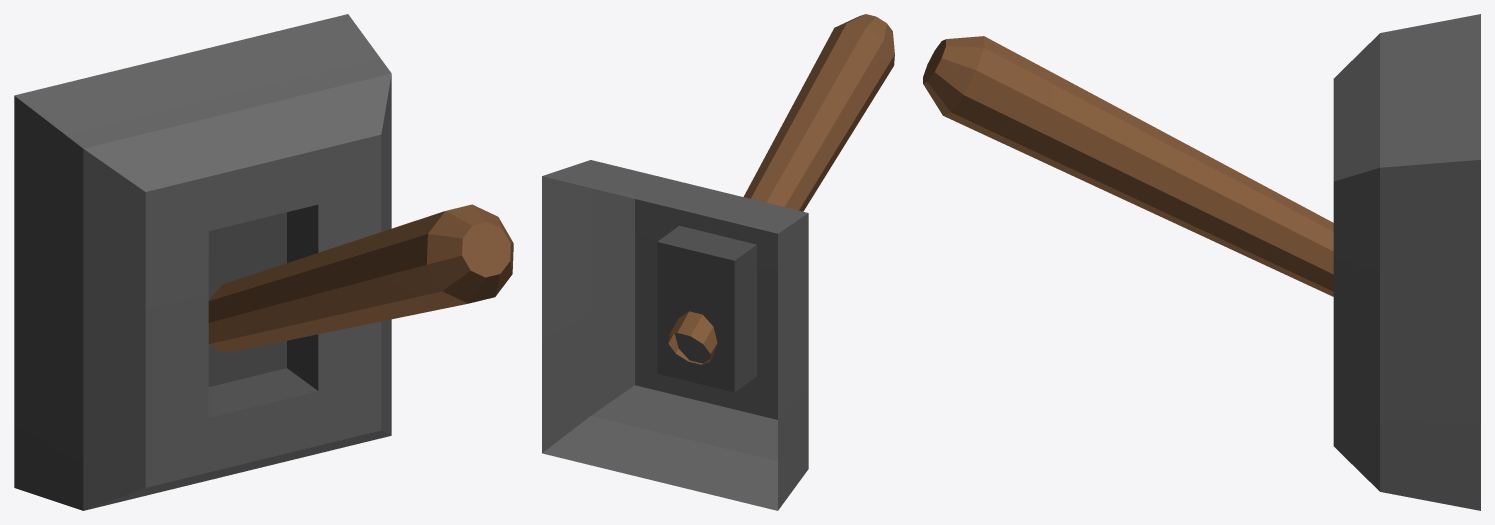
File: Mini_Control_Button_3.fbx
The picture shows the model from 3 angles, left to right: view 1: azimuth 30°, elevation 25°; view 2: azimuth 150°, elevation 25°; view 3: azimuth 270°, elevation 25°; orthographic projection. The views are drawn at different scales.
Parts seen in each view (by area): view 1: Mini_Control_Button_3, Mini_Control_Button_3.001; view 2: Mini_Control_Button_3, Mini_Control_Button_3.001; view 3: Mini_Control_Button_3, Mini_Control_Button_3.001.
Boxes of the visible parts, x1,y1,x2,y2 form: Mini_Control_Button_3: [14, 14, 391, 510]; Mini_Control_Button_3.001: [208, 204, 513, 353]; Mini_Control_Button_3: [542, 160, 808, 510]; Mini_Control_Button_3.001: [668, 14, 894, 364]; Mini_Control_Button_3: [1333, 14, 1480, 510]; Mini_Control_Button_3.001: [923, 36, 1333, 296].
Bounding box in the file's own units: 12.45 × 15.76 × 20.12.
Materials: 1 (1 with a texture image).
